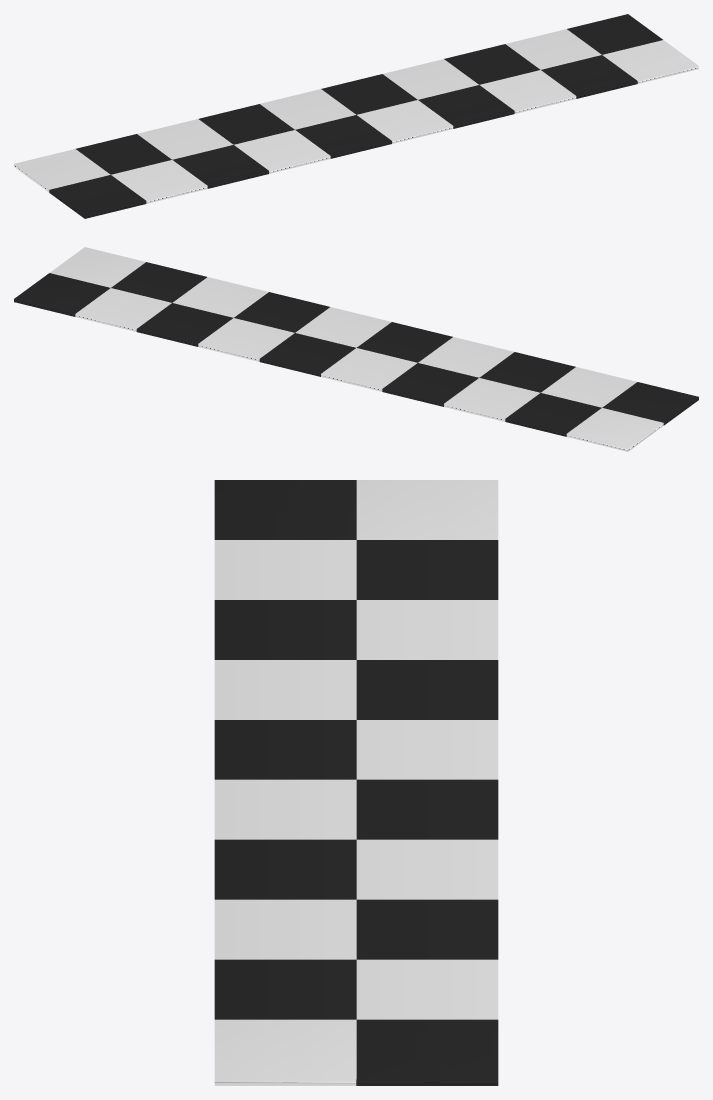
Rendered from Deco_Goal_10x2_Collider_None.glb.
3 renders of one model, top to bottom at view 1: azimuth 30°, elevation 25°; view 2: azimuth 150°, elevation 25°; view 3: azimuth 270°, elevation 25°, orthographic. The views are drawn at different scales.
Visible parts, largest first — view 1: Deco_Goal_10x2_Collider_None; view 2: Deco_Goal_10x2_Collider_None; view 3: Deco_Goal_10x2_Collider_None.
Boxes of the visible parts, bbox=[...] form: Deco_Goal_10x2_Collider_None: bbox=[14, 14, 698, 218]; Deco_Goal_10x2_Collider_None: bbox=[14, 247, 698, 451]; Deco_Goal_10x2_Collider_None: bbox=[214, 480, 498, 1085].
Size of the model in its own units: 10 by 0.05 by 2.
Materials: 1 (1 with a texture image).
